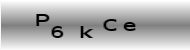6: (50, 24, 65, 41)
C: (102, 17, 118, 33)
P: (34, 11, 51, 29)
e: (122, 20, 138, 32)
k: (80, 25, 93, 40)
